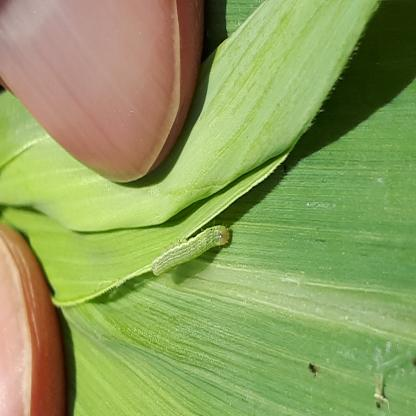armyworm: (70, 255, 114, 416)
